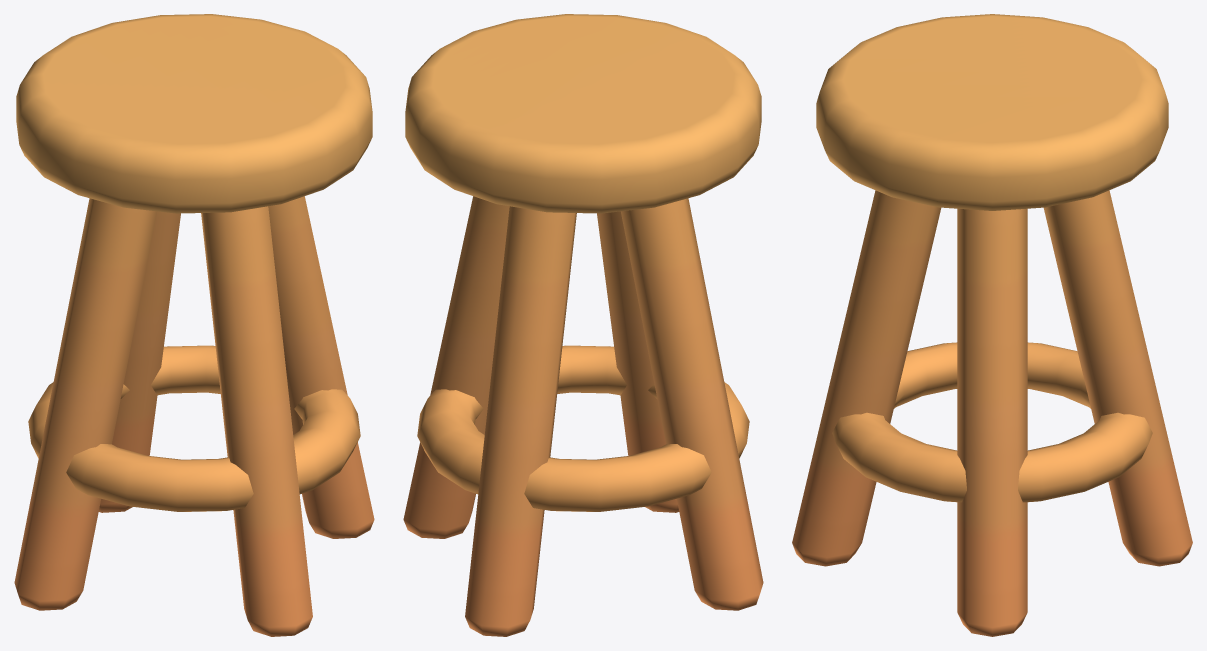
The model's file is Chair_17.glb.
3 renders of one model, left to right at view 1: azimuth 30°, elevation 25°; view 2: azimuth 150°, elevation 25°; view 3: azimuth 270°, elevation 25°, orthographic.
Visible parts, largest first — view 1: Chair_17; view 2: Chair_17; view 3: Chair_17.
Part boxes in pixels (x1=…): Chair_17: x1=14, y1=14, x2=374, y2=636; Chair_17: x1=403, y1=14, x2=763, y2=636; Chair_17: x1=792, y1=14, x2=1192, y2=636.
Bounding box in the file's own units: 0.4549 × 0.6 × 0.4549.
Materials: 1 (1 with a texture image).
